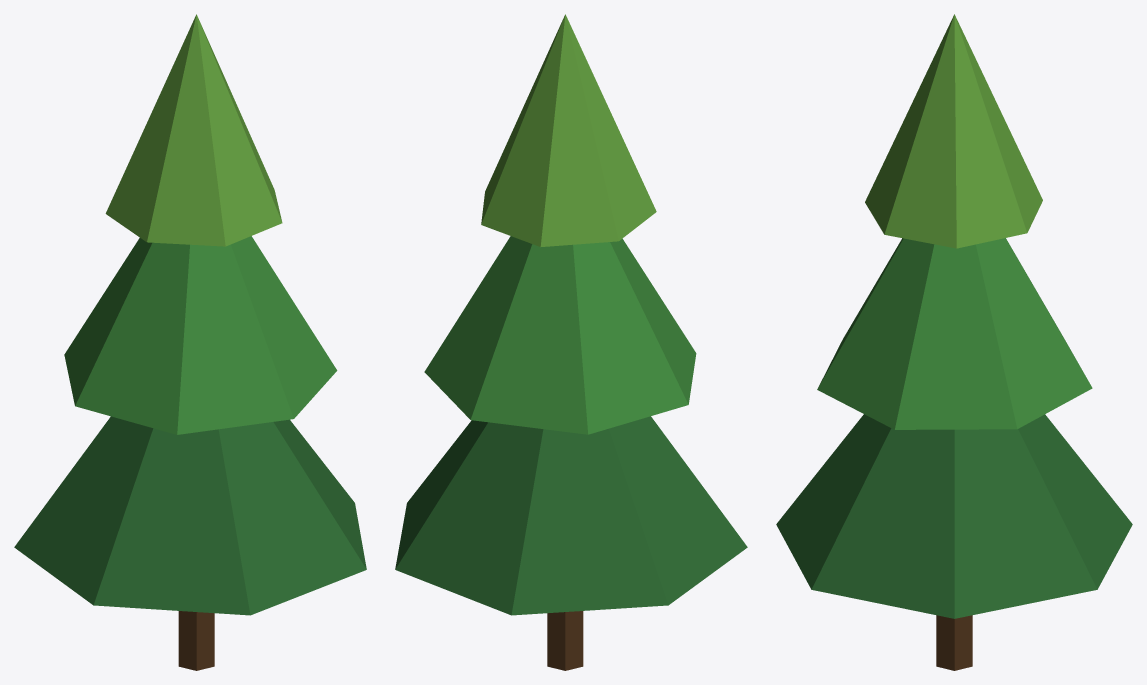
The model's file is tree_pine.obj.
3 renders of one model, left to right at view 1: azimuth 30°, elevation 25°; view 2: azimuth 150°, elevation 25°; view 3: azimuth 270°, elevation 25°, orthographic.
Visible parts, largest first — view 1: tree_pine; view 2: tree_pine; view 3: tree_pine.
Boxes of the visible parts, x1,y1,x2,y2 form: tree_pine: [14, 14, 366, 670]; tree_pine: [395, 14, 747, 670]; tree_pine: [776, 14, 1132, 670].
Size of the model in its own units: 4.18 by 8.6 by 4.29.
